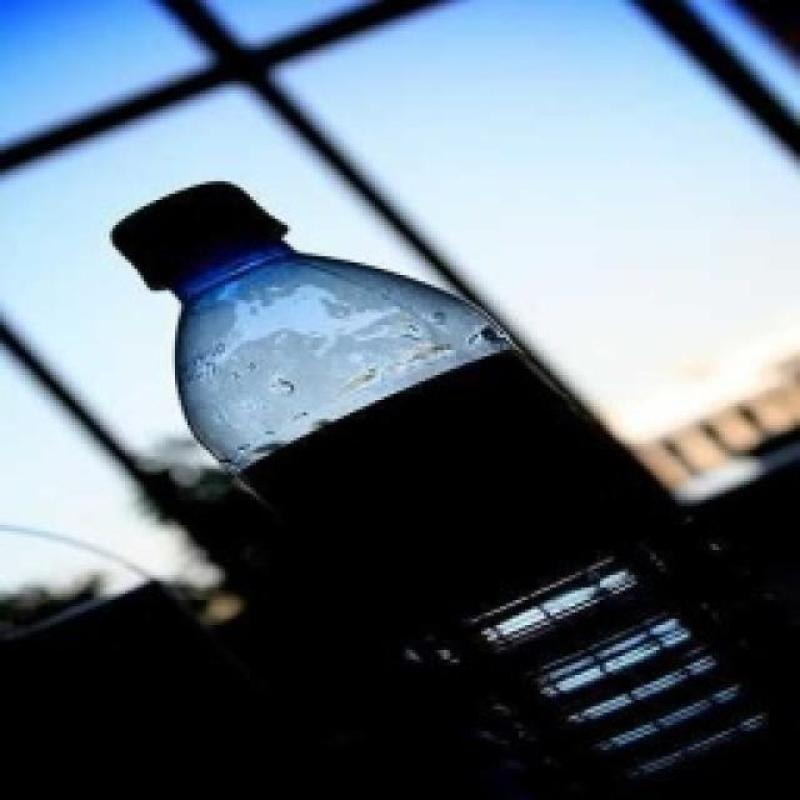botella: (107, 181, 782, 797)
